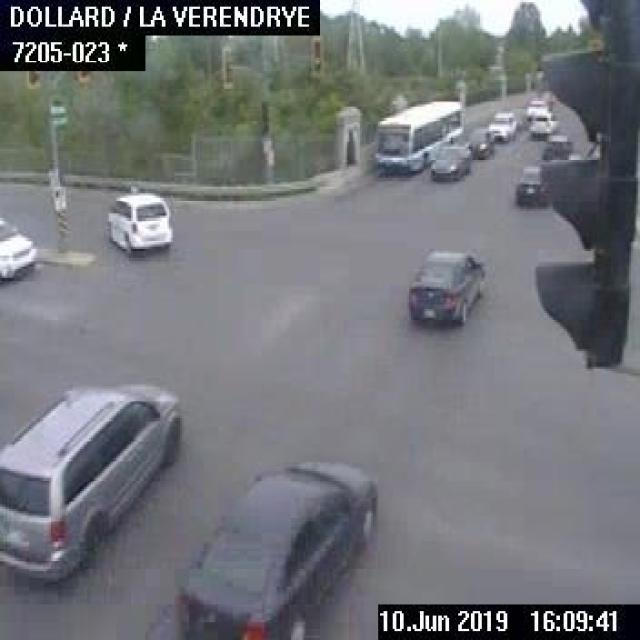bus: (374, 98, 462, 174)
vehicle: (171, 456, 376, 638), (0, 380, 180, 578), (404, 247, 484, 325), (102, 191, 173, 251), (0, 215, 35, 278), (431, 140, 472, 180), (514, 160, 546, 207), (466, 125, 495, 160), (535, 131, 568, 161), (487, 108, 516, 142), (529, 110, 554, 137), (525, 95, 550, 115)
